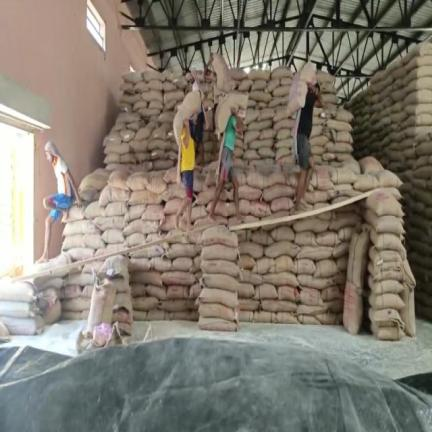Zone-Counting: (287, 65, 323, 207), (210, 93, 246, 218), (173, 92, 200, 227)
